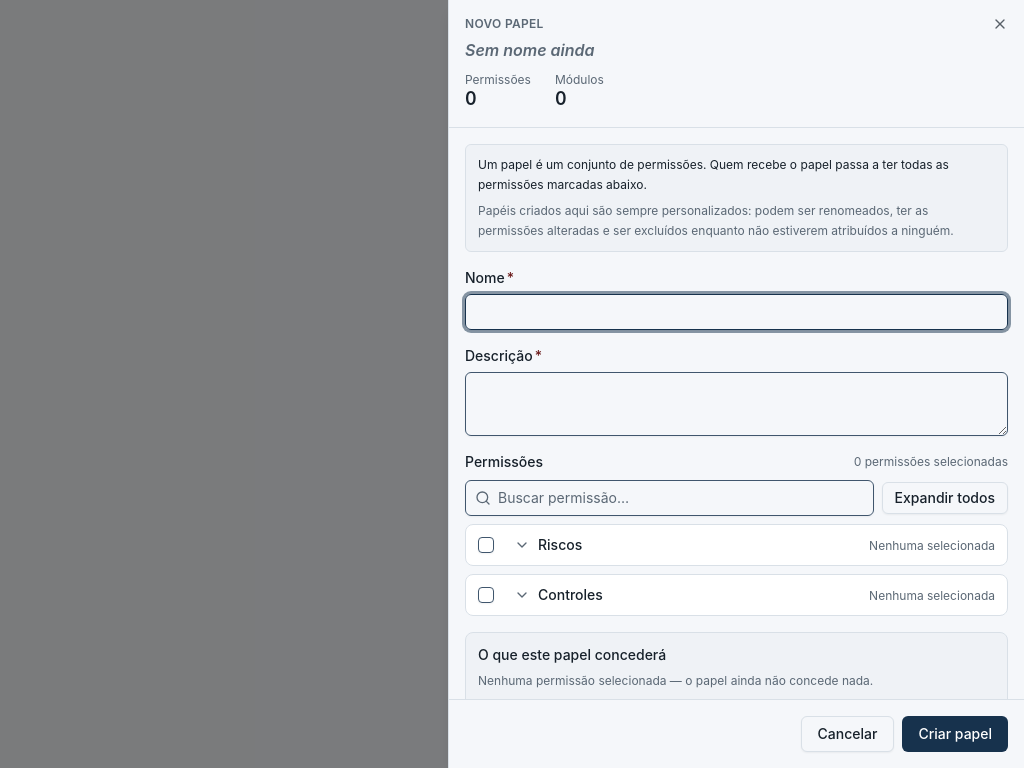
Test: RoleCreatePanel — the shell › names the panel, fetches the catalogue once, and shows the live counts in the fixed header
Check: the element "Novo papel" is shown, box [449,0,1023,767]
Check: the element "Novo papel" shows "Permissões", box [465,72,531,87]
Click the checkbox named "Selecionar todas as permissões de Riscos". click: click(486, 544)
box: [478,536,494,552]
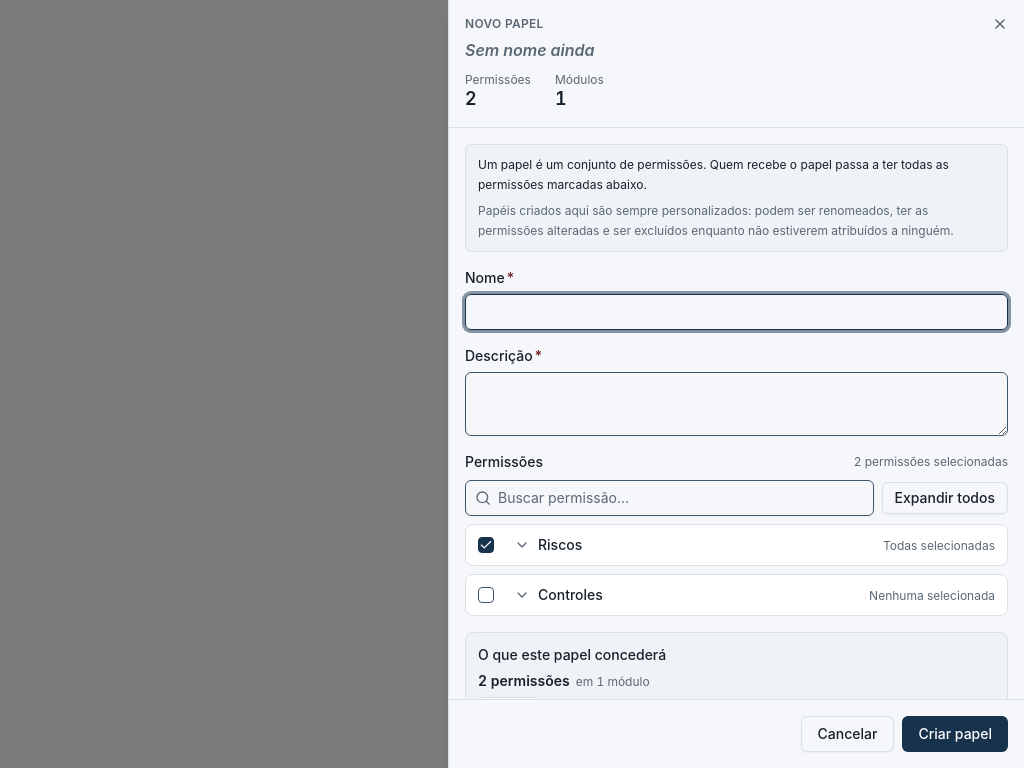
Check: the text "2 permissões selecionadas" is shown, box [854,454,1008,470]
